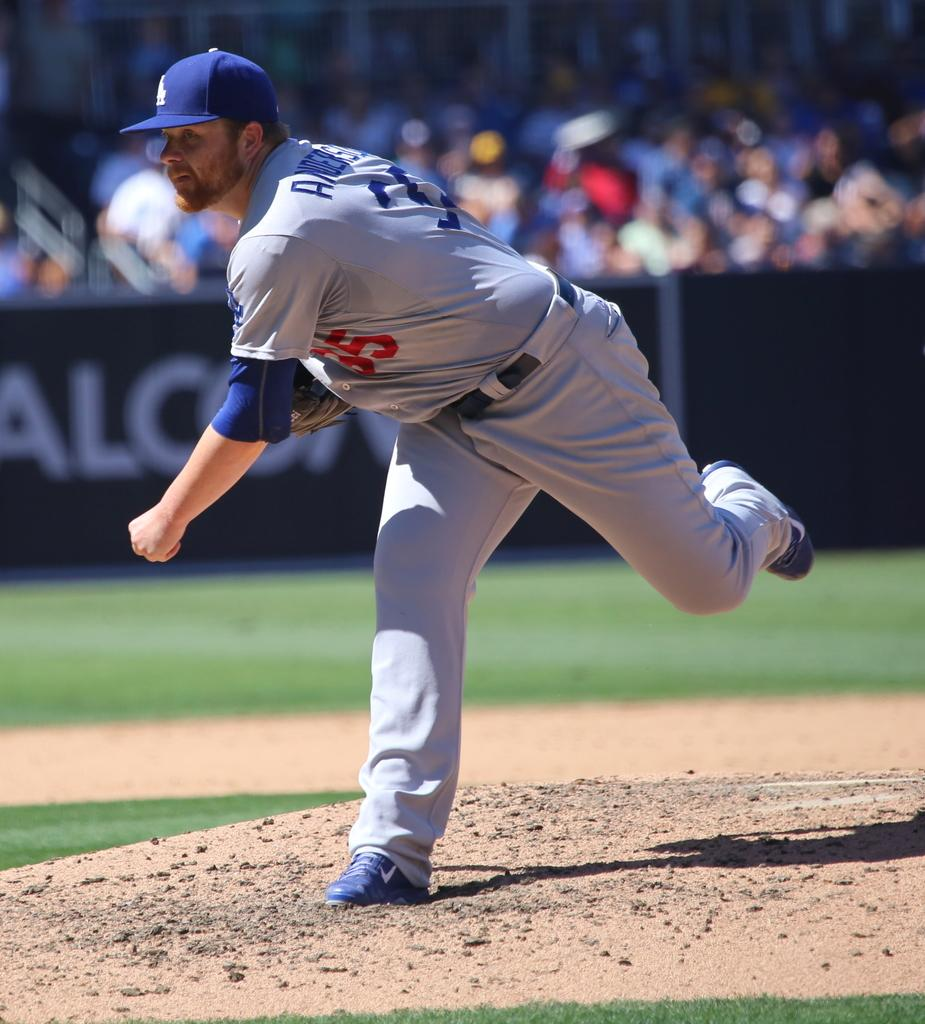Hat: (120, 40, 276, 134)
